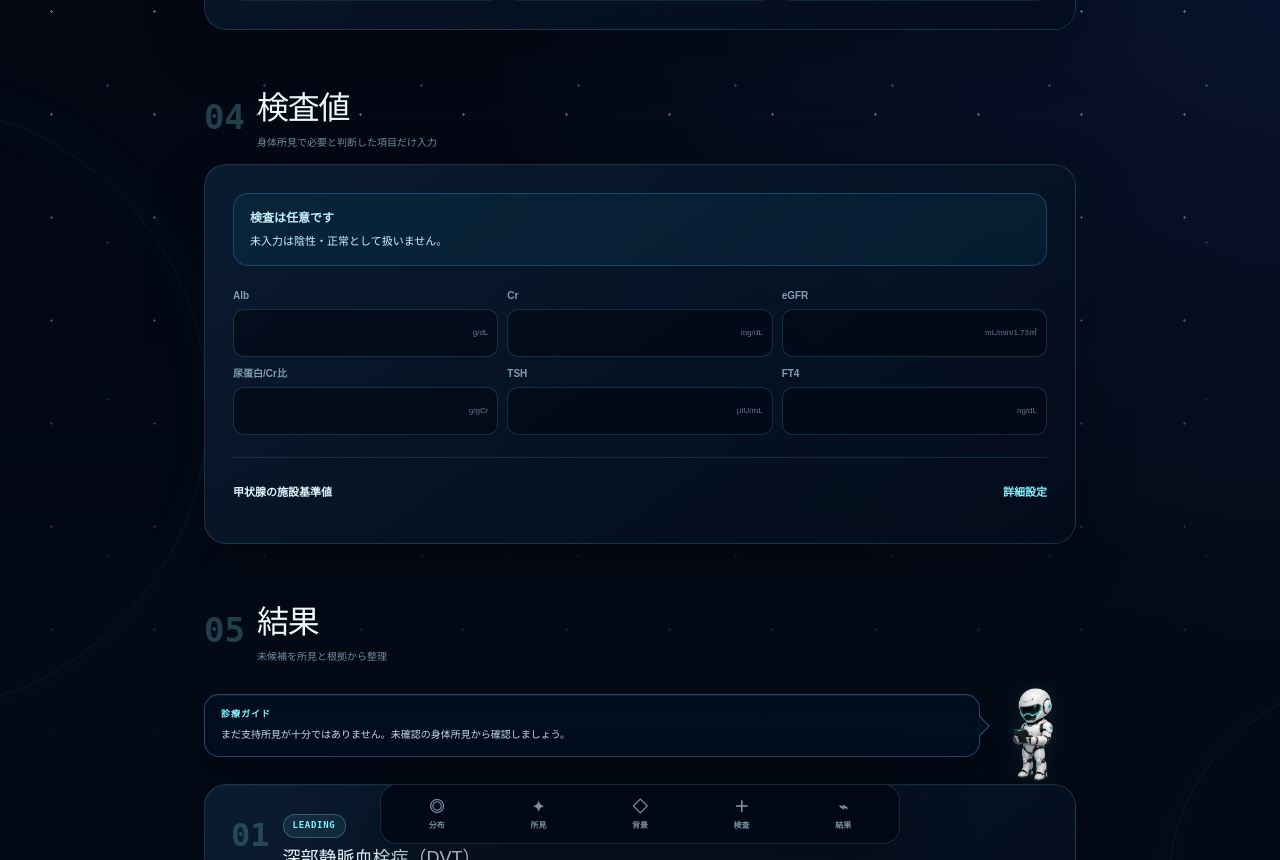
Scenario: Bedside Edema Navigator › asks for both TSH and FT4 when only one is entered
The width and height of the screenshot is (1280, 860).
(page scrolled)
Type "8" into the number field labelled "TSH" at (622, 411), box [508,388,737,434]
(page scrolled)
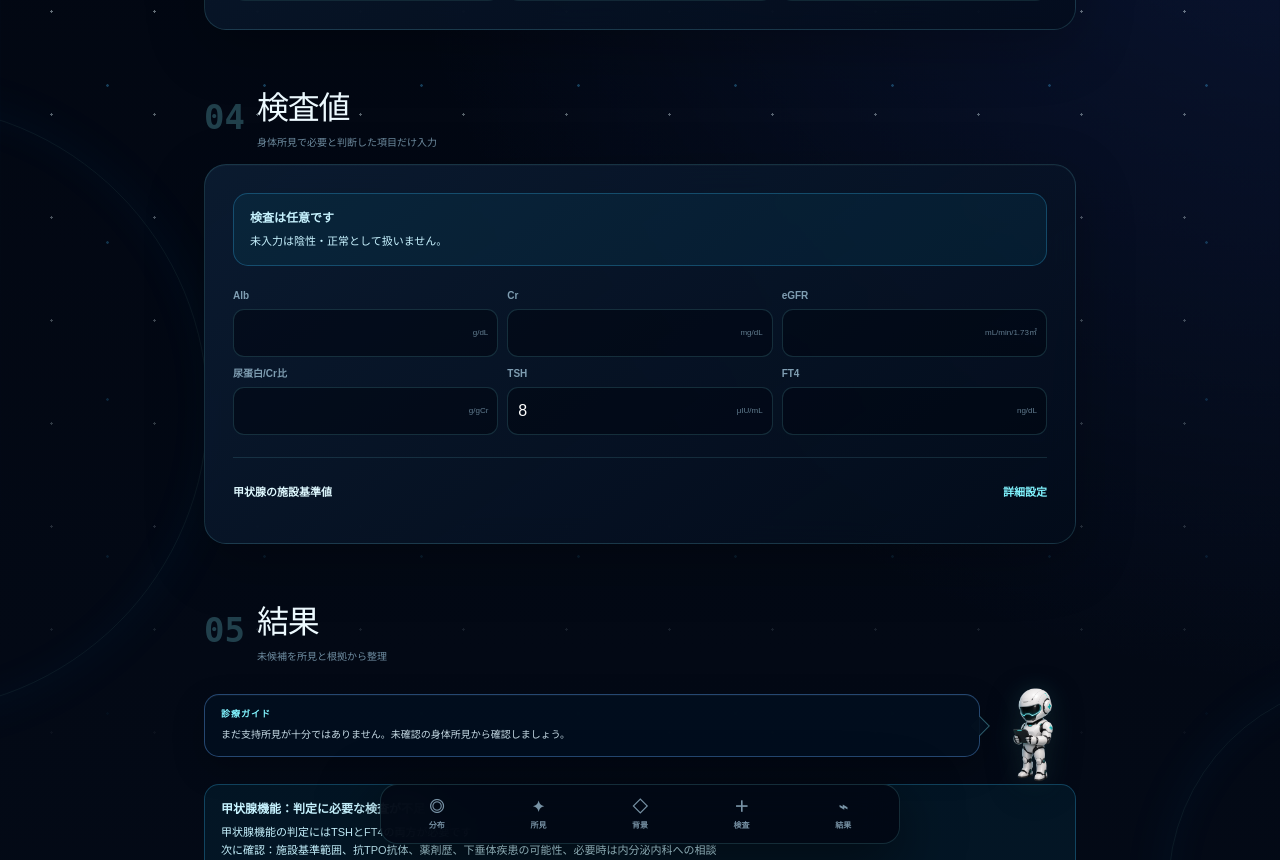
Expected: the text "甲状腺機能の判定にはTSHとFT4の両方が必要です" is shown, [221,826,472,838]
